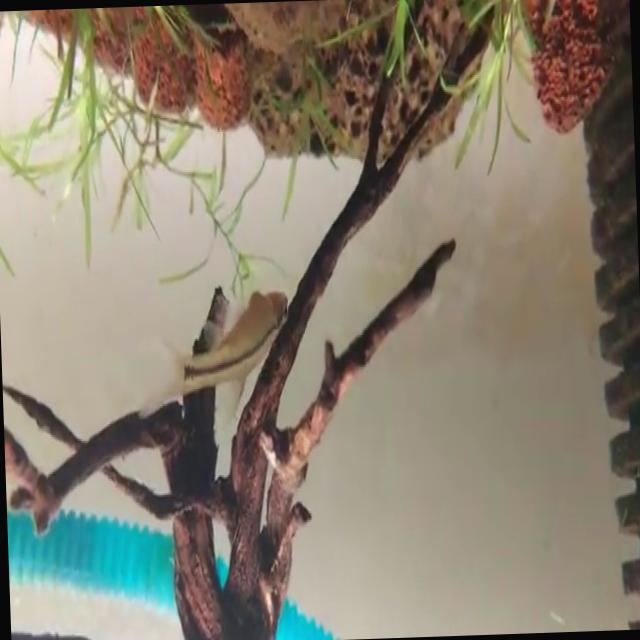Cakil Baligi: (164, 281, 296, 423)
